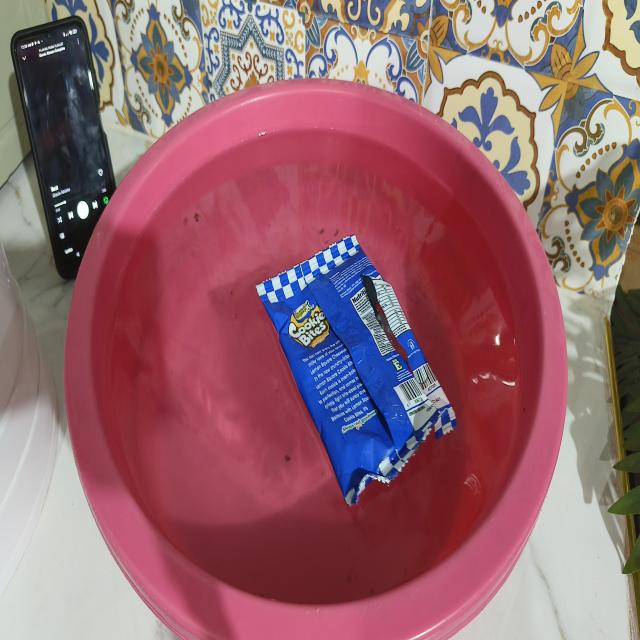Plastic Wrapper: (256, 236, 457, 504)
